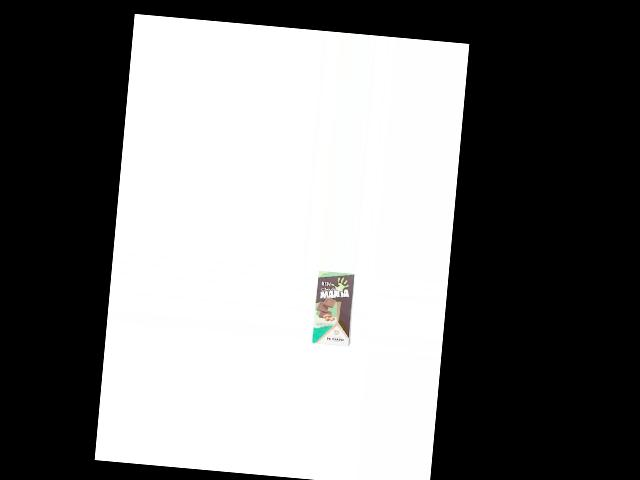chocolate: (310, 269, 357, 348)
